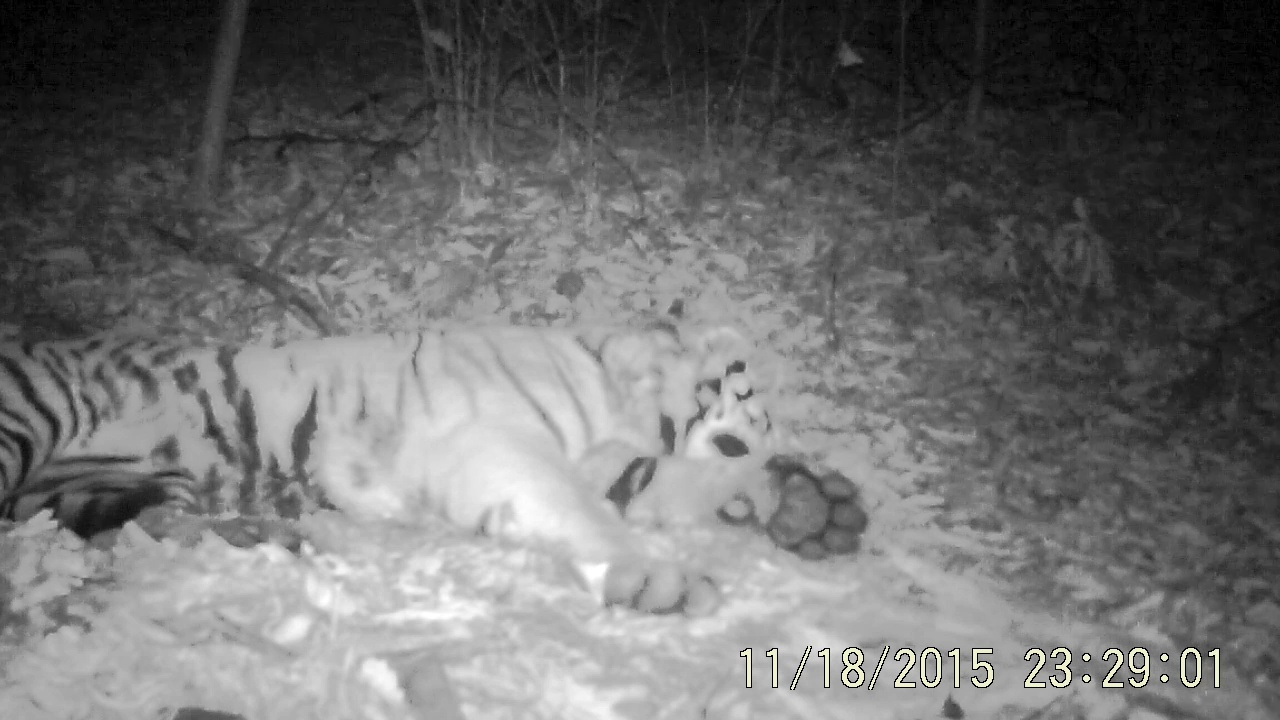Tiger: (9, 130, 939, 622)
